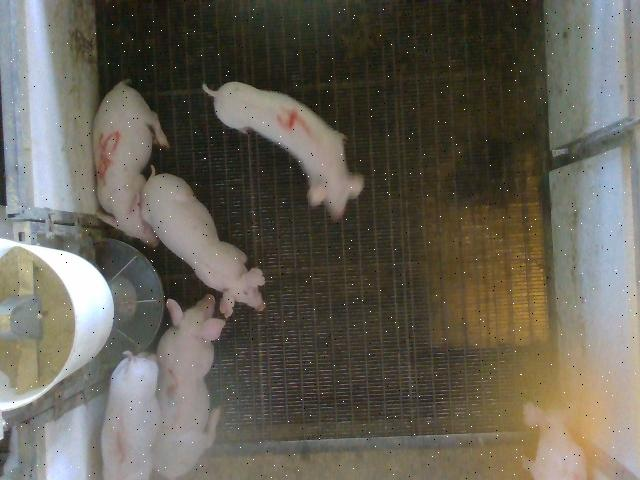pig-1: (101, 351, 161, 479)
pig-3: (154, 295, 225, 478)
pig-4: (202, 82, 364, 219)
pig-5: (94, 80, 169, 247)
